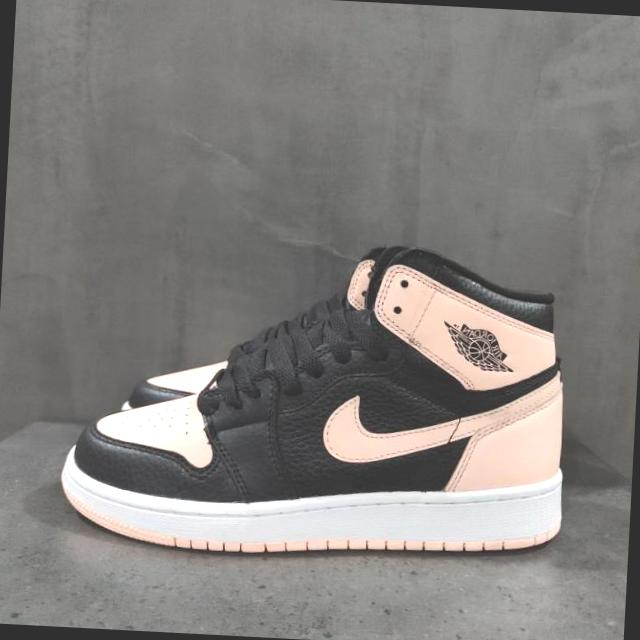nike_fake_jordan: (52, 227, 578, 572)
